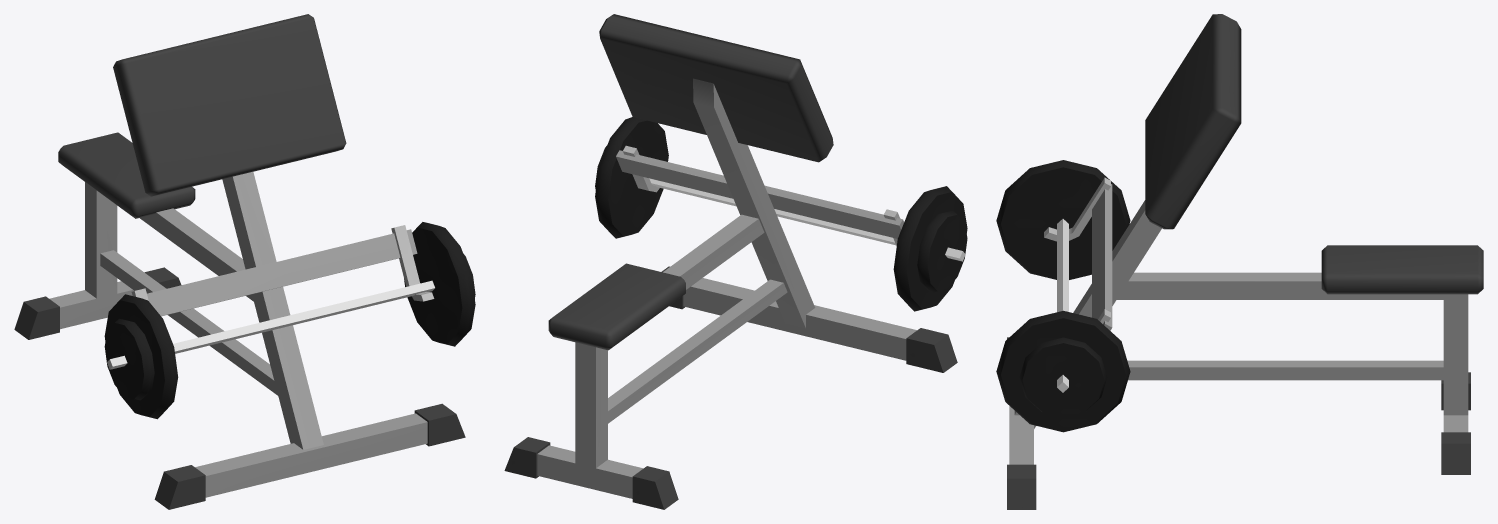
File: training_item.glb
The picture shows the model from 3 angles, left to right: view 1: azimuth 30°, elevation 25°; view 2: azimuth 150°, elevation 25°; view 3: azimuth 270°, elevation 25°; orthographic projection. The views are drawn at different scales.
Visible parts, largest first — view 1: training_item_001; view 2: training_item_001; view 3: training_item_001.
Part boxes in pixels (x1=…): training_item_001: x1=14, y1=14, x2=475, y2=509; training_item_001: x1=504, y1=14, x2=967, y2=509; training_item_001: x1=996, y1=14, x2=1483, y2=509.
Bounding box in the file's own units: 1.14 × 1.09 × 1.28.
Materials: 1 (1 with a texture image).
